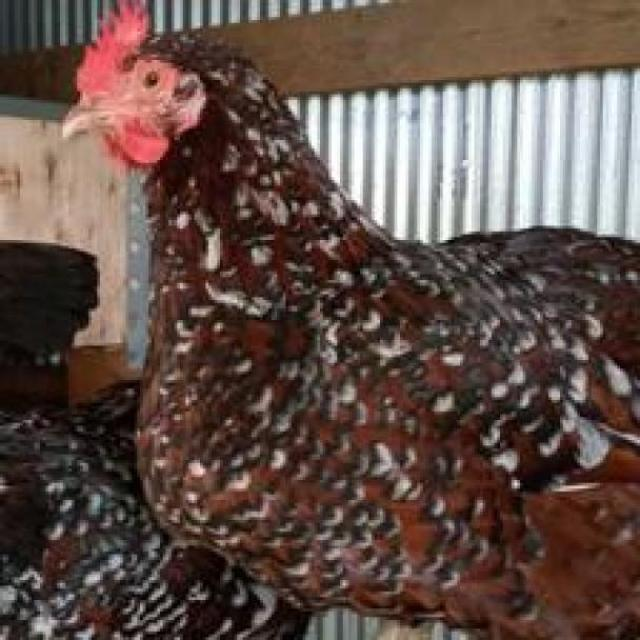Chicken: (52, 2, 640, 636)
